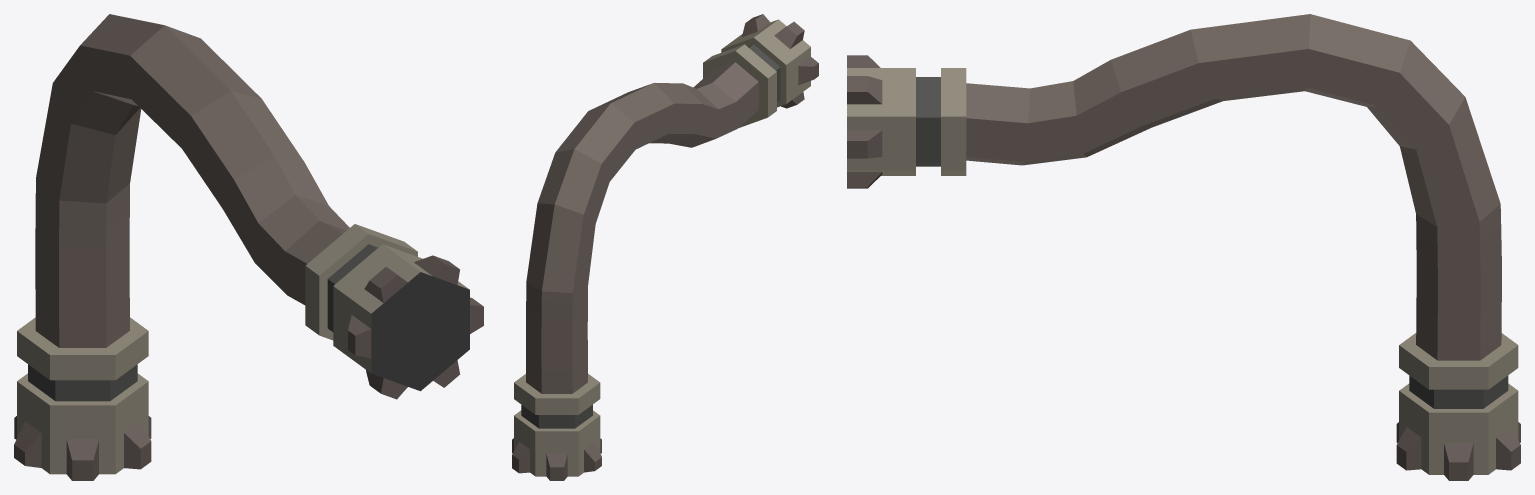
File: entity108842.glb
3 renders of one model, left to right at view 1: azimuth 30°, elevation 25°; view 2: azimuth 150°, elevation 25°; view 3: azimuth 270°, elevation 25°, orthographic. The views are drawn at different scales.
Visible parts, largest first — view 1: node_SM_Prop_Cable_03 (1); view 2: node_SM_Prop_Cable_03 (1); view 3: node_SM_Prop_Cable_03 (1).
Part boxes in pixels (left/top/right/bottom): node_SM_Prop_Cable_03 (1): left=14, top=14, right=483, bottom=480; node_SM_Prop_Cable_03 (1): left=512, top=14, right=818, bottom=480; node_SM_Prop_Cable_03 (1): left=847, top=14, right=1520, bottom=480.
Size of the model in its own units: 0.2769 by 1.01 by 1.41.
1 material, 1 textured.
